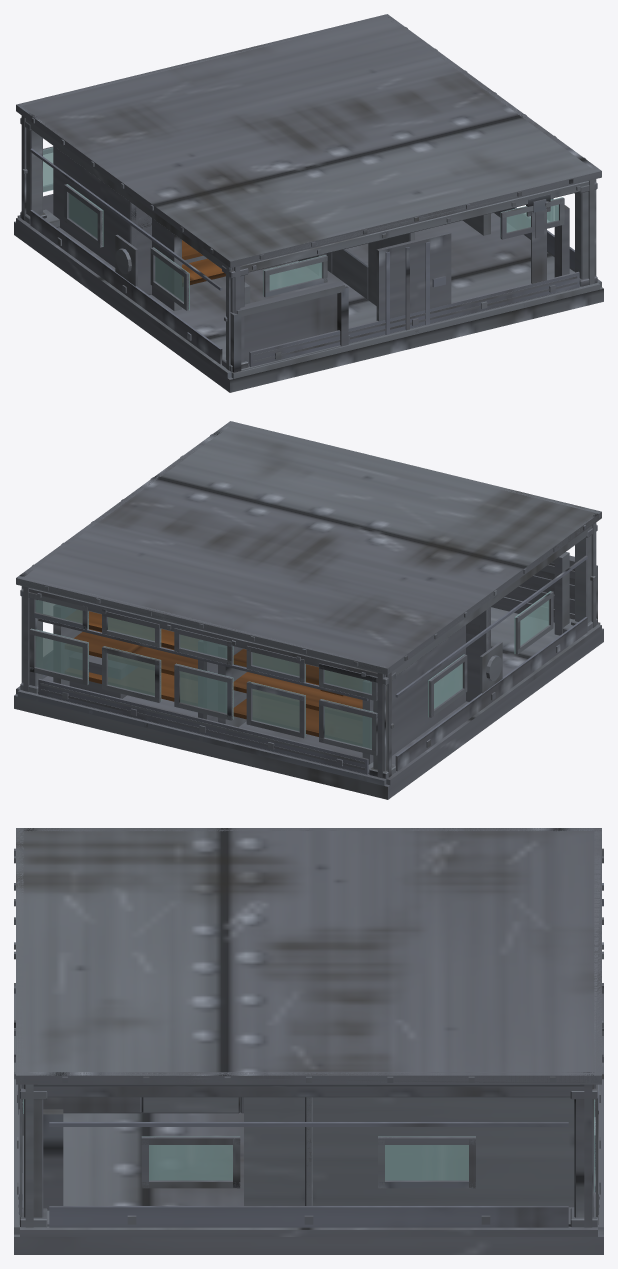
The picture shows the model from 3 angles, top to bottom: view 1: azimuth 30°, elevation 25°; view 2: azimuth 150°, elevation 25°; view 3: azimuth 270°, elevation 25°; orthographic projection. The views are drawn at different scales.
Visible parts, largest first — view 1: SM_HDBF_BoxFarm_Top_LOD0; view 2: SM_HDBF_BoxFarm_Top_LOD0; view 3: SM_HDBF_BoxFarm_Top_LOD0.
Part boxes in pixels (x1,y1,x2,y2): SM_HDBF_BoxFarm_Top_LOD0: (14, 14, 603, 392); SM_HDBF_BoxFarm_Top_LOD0: (14, 421, 603, 799); SM_HDBF_BoxFarm_Top_LOD0: (14, 828, 603, 1254).
Bounding box in the file's own units: 3 × 1 × 3.
Materials: 4 (4 with a texture image).
